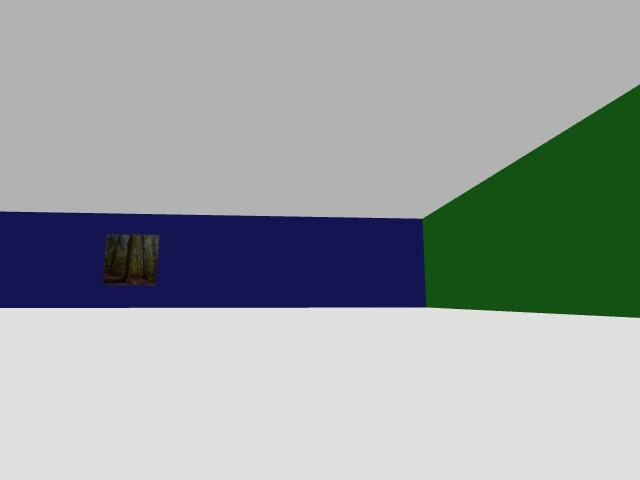tree: (106, 235, 122, 273), (123, 235, 133, 284), (149, 235, 158, 276), (139, 235, 147, 278)
